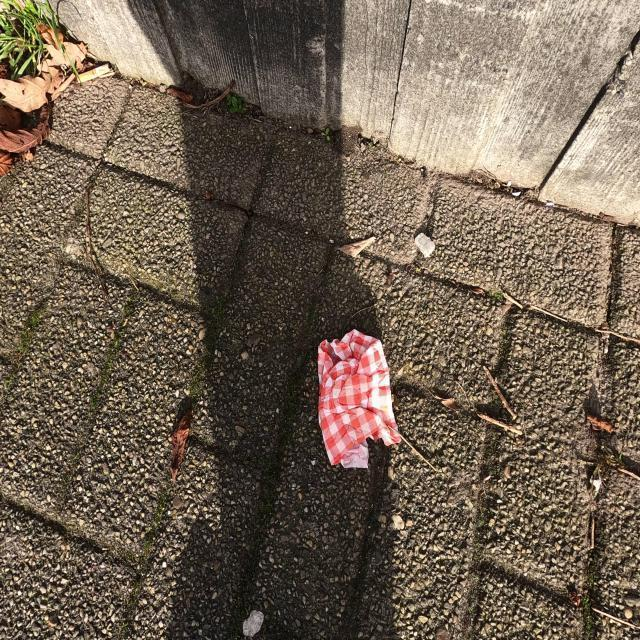Paper: (316, 326, 404, 472)
